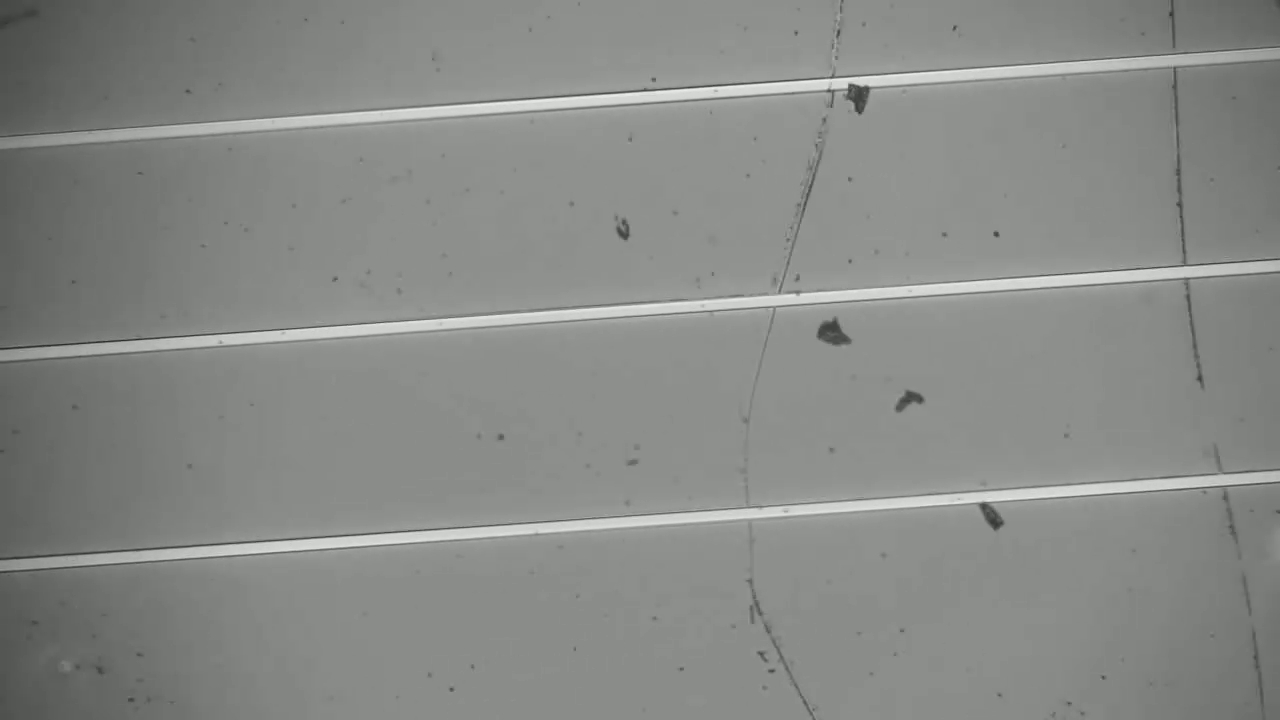scratch: (720, 14, 836, 720), (1168, 4, 1280, 720)
